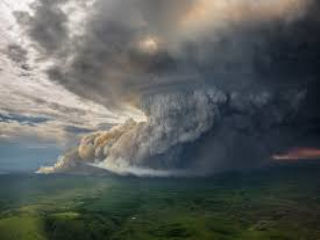smoke: (58, 89, 303, 175)
